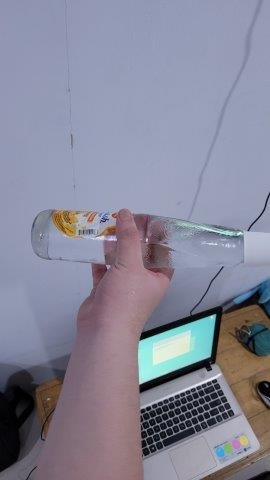botolkaca: (31, 207, 270, 278)
